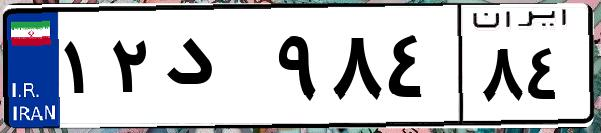1: (57, 26, 110, 100)
2: (110, 28, 158, 98)
4: (385, 28, 445, 110), (525, 38, 570, 115)
8: (330, 28, 385, 110), (475, 38, 525, 113)
9: (270, 28, 330, 110)
د: (158, 20, 270, 120)
